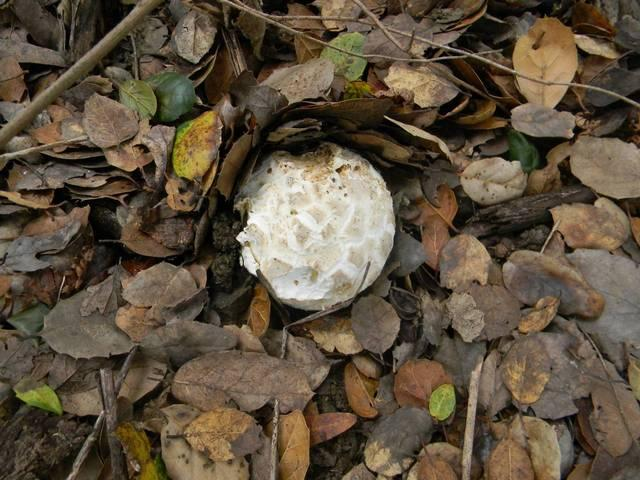Edible Mushroom: (231, 138, 396, 311)
